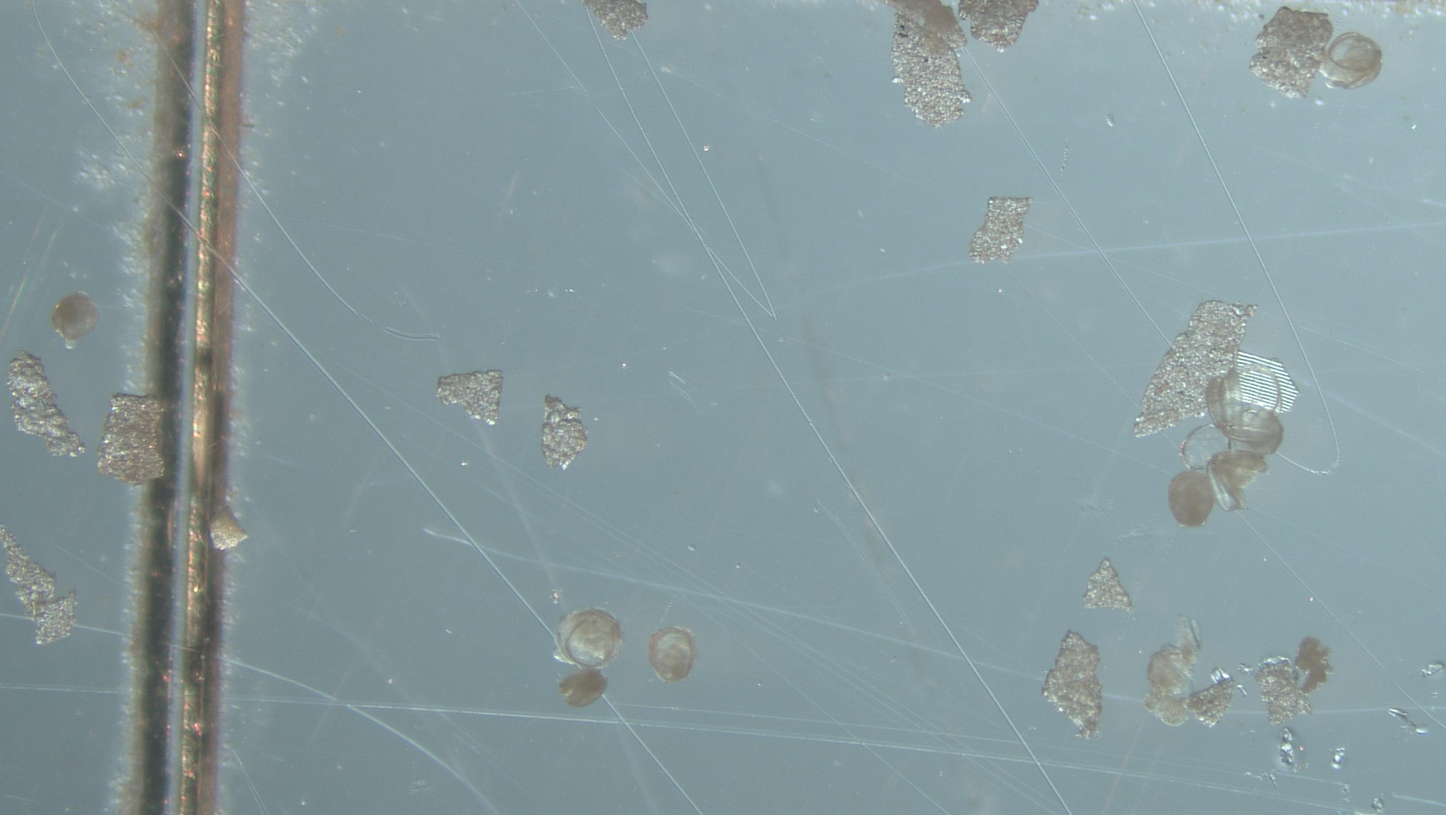dead: (1178, 425, 1230, 470)
live: (556, 609, 623, 669), (1206, 450, 1267, 511), (1322, 32, 1382, 89), (1168, 470, 1216, 528), (649, 627, 696, 683), (51, 292, 98, 342), (558, 669, 607, 708), (1241, 410, 1283, 455)
